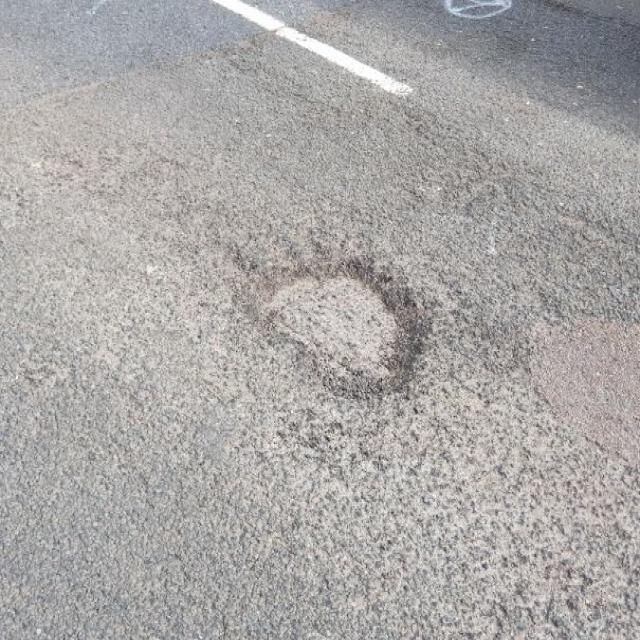Pothole: (227, 240, 432, 399)
